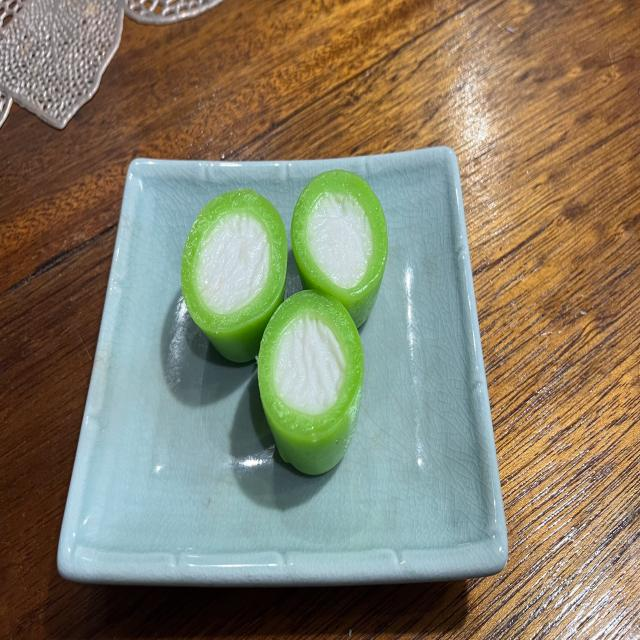nona-manis: (258, 291, 364, 476), (181, 189, 288, 362), (291, 171, 388, 327)
